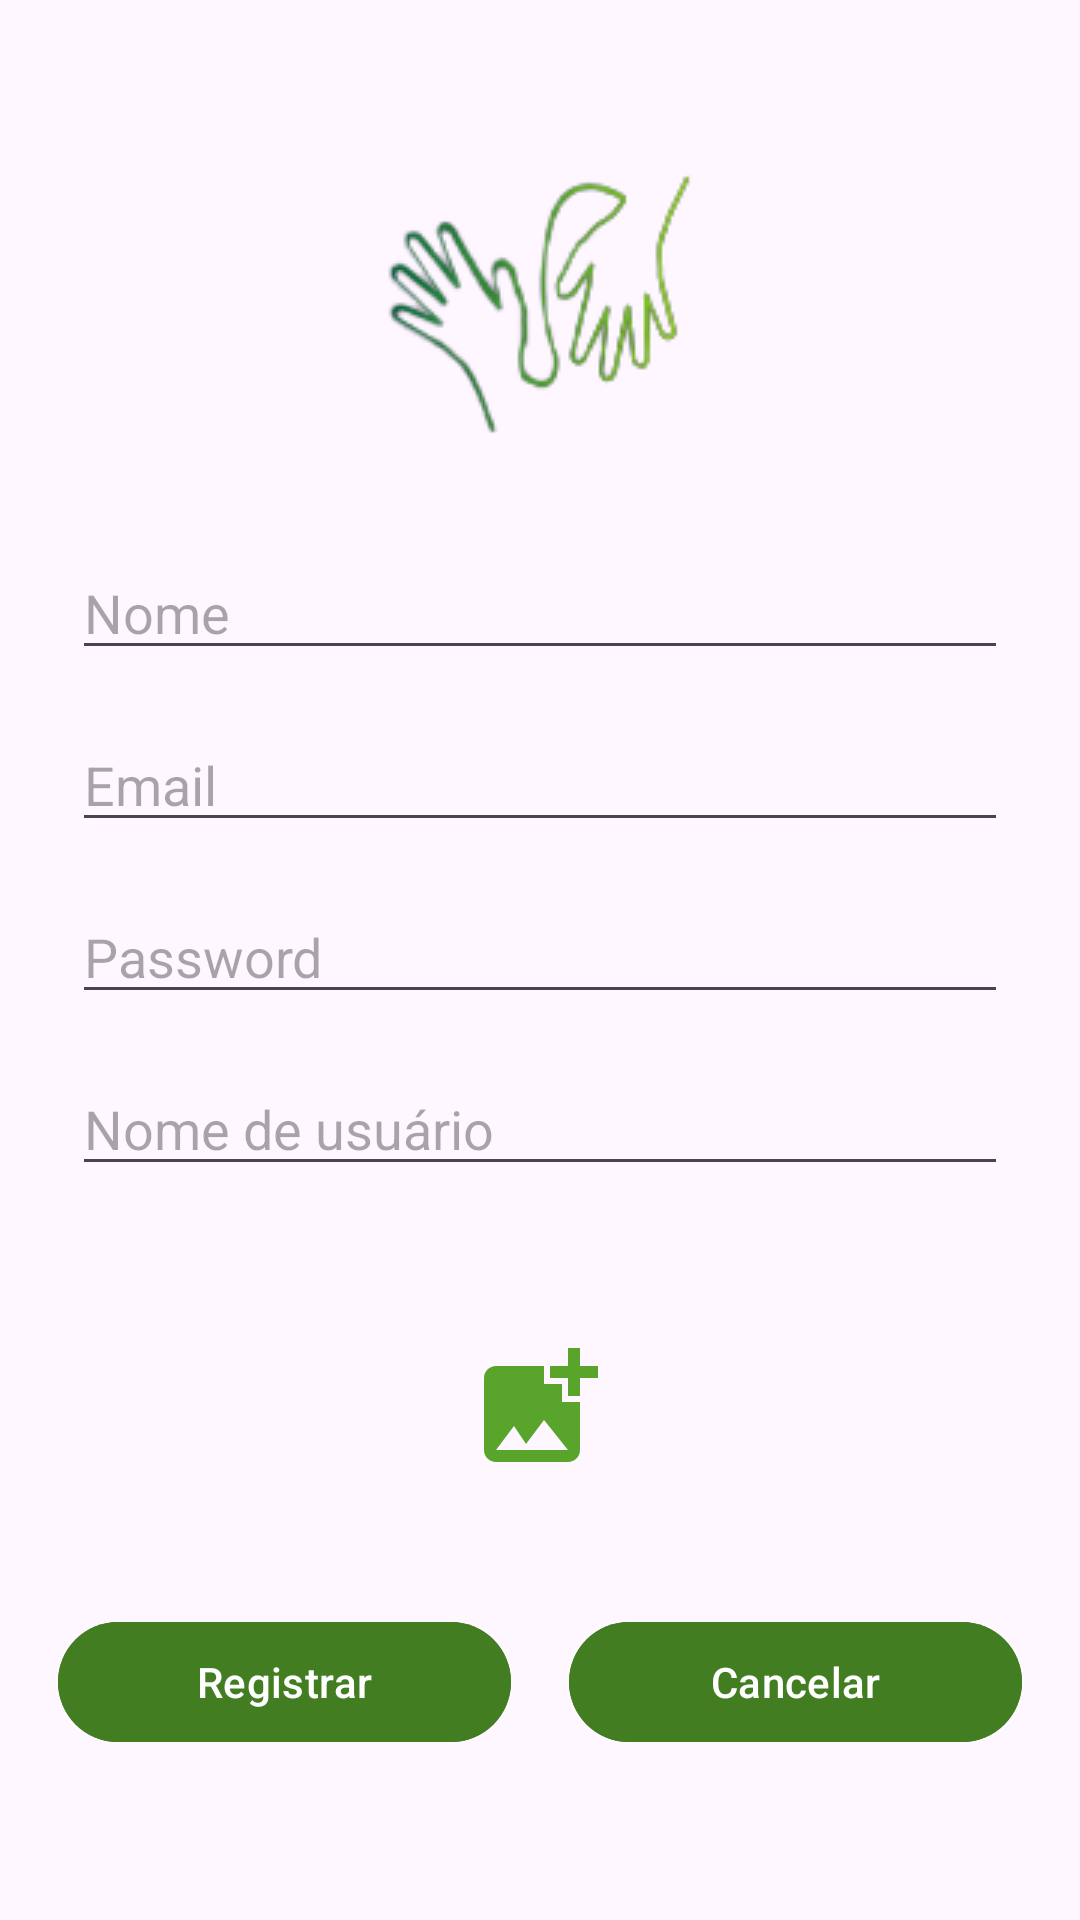

Point at icon controls on the screen. Image size 1080×1920, points as (x,y).
botão de adcionar imagem: (541,1405)
